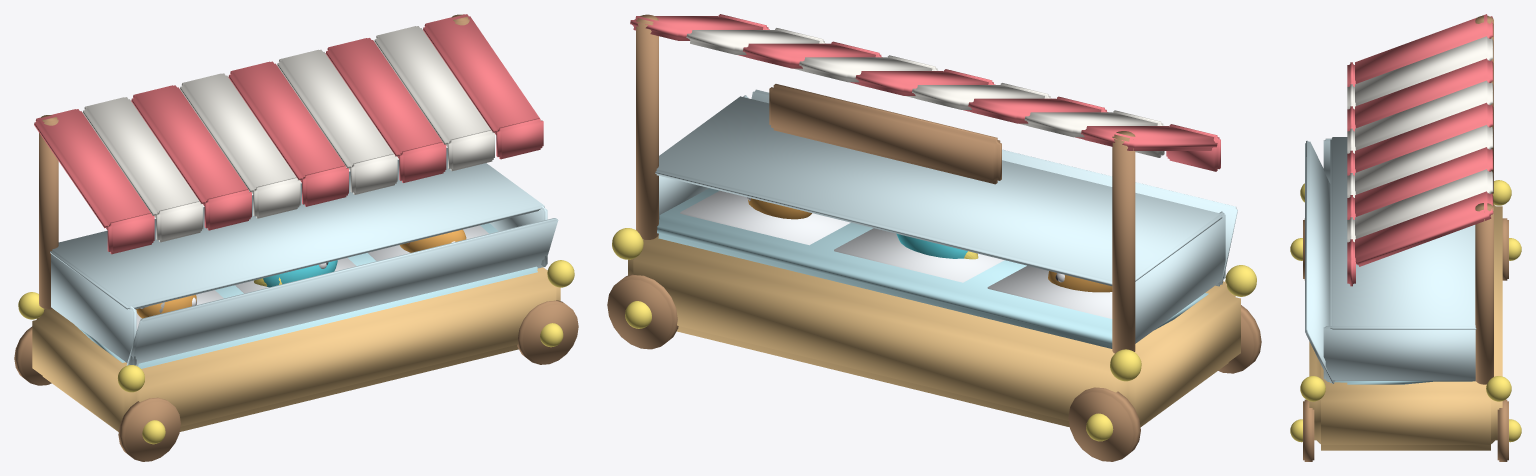
Rendered from Market_DisplayCounter.fbx.
3 views of the same model, side by side, from view 1: azimuth 30°, elevation 25°; view 2: azimuth 150°, elevation 25°; view 3: azimuth 270°, elevation 25° (orthographic). The views are drawn at different scales.
Parts seen in each view (by area): view 1: Counter_Base, Glass_TopCounter, Glass_FrontShowcase, AwningStripe_3, AwningStripe_1, AwningStripe_4, AwningStripe_2, AwningStripe_5, AwningStripe_6, AwningStripe_7, AwningStripe_0, AwningStripe_8 (+22 smaller); view 2: Counter_Base, Glass_TopCounter, IceBed, Sign_Plaque, Glass_Side_L, Post_L, Post_R, Tray_2, Wheel_-1.5_0.68, Tray_1, Wheel_1.5_0.68, Glass_FrontShowcase (+19 smaller); view 3: Counter_Base, Glass_TopCounter, Glass_Side_R, Glass_FrontShowcase, AwningStripe_8, Post_R, AwningStripe_1, AwningStripe_3, AwningStripe_4, AwningStripe_5, AwningStripe_7, AwningStripe_6 (+12 smaller).
Part boxes in pixels (x1=…): Counter_Base: x1=32, y1=267, x2=560, y2=431; Glass_TopCounter: x1=50, y1=147, x2=544, y2=309; Glass_FrontShowcase: x1=126, y1=218, x2=558, y2=366; AwningStripe_3: x1=180, y1=73, x2=296, y2=194; AwningStripe_1: x1=82, y1=97, x2=199, y2=217; AwningStripe_4: x1=228, y1=61, x2=345, y2=182; AwningStripe_2: x1=131, y1=85, x2=248, y2=206; AwningStripe_5: x1=277, y1=49, x2=393, y2=170; AwningStripe_6: x1=325, y1=38, x2=442, y2=158; AwningStripe_7: x1=374, y1=26, x2=491, y2=146; AwningStripe_0: x1=34, y1=109, x2=150, y2=229; AwningStripe_8: x1=423, y1=14, x2=539, y2=134; Counter_Base: x1=628, y1=236, x2=1240, y2=427; Glass_TopCounter: x1=655, y1=96, x2=1222, y2=286; IceBed: x1=657, y1=188, x2=1208, y2=348; Sign_Plaque: x1=769, y1=84, x2=1001, y2=184; Glass_Side_L: x1=1135, y1=211, x2=1225, y2=343; Post_L: x1=1112, y1=131, x2=1135, y2=353; Post_R: x1=636, y1=14, x2=658, y2=239; Tray_2: x1=680, y1=190, x2=850, y2=245; Wheel_-1.5_0.68: x1=1068, y1=387, x2=1140, y2=461; Tray_1: x1=834, y1=228, x2=1004, y2=282; Wheel_1.5_0.68: x1=607, y1=274, x2=678, y2=349; Glass_FrontShowcase: x1=751, y1=89, x2=1237, y2=286; Counter_Base: x1=1309, y1=204, x2=1502, y2=450; Glass_TopCounter: x1=1330, y1=137, x2=1476, y2=329; Glass_Side_R: x1=1323, y1=326, x2=1475, y2=380; Glass_FrontShowcase: x1=1305, y1=140, x2=1335, y2=383; AwningStripe_8: x1=1355, y1=191, x2=1493, y2=266; Post_R: x1=1475, y1=203, x2=1493, y2=384; AwningStripe_1: x1=1355, y1=36, x2=1493, y2=105; AwningStripe_3: x1=1355, y1=80, x2=1493, y2=150; AwningStripe_4: x1=1355, y1=102, x2=1493, y2=172; AwningStripe_5: x1=1355, y1=125, x2=1493, y2=194; AwningStripe_7: x1=1355, y1=169, x2=1493, y2=238; AwningStripe_6: x1=1355, y1=147, x2=1493, y2=216.
Bounding box in the file's own units: 3.44 × 1.98 × 1.62.
